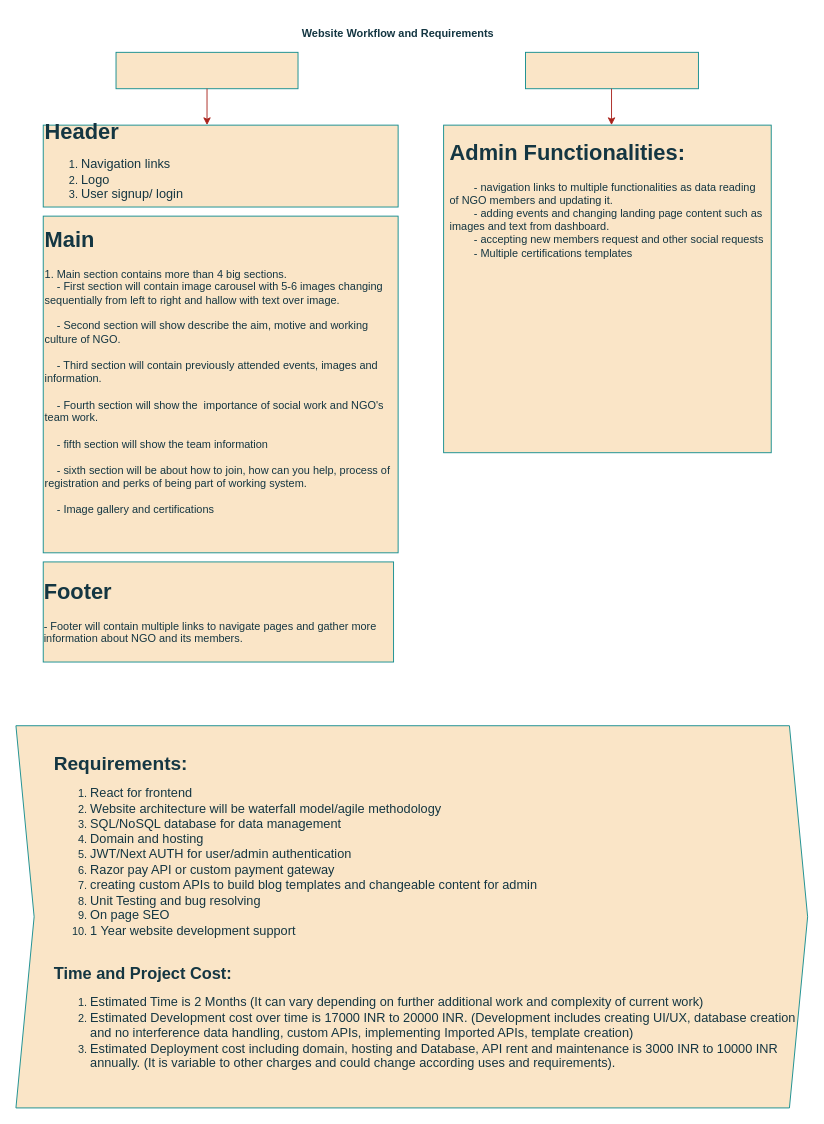
This 824x1124 diagram has some shape labels left out. The shapes that lost their labels are listed below. From the top down, each one's centre as x and y in pixels, then its label:
At (206,70): "Landing Page Content".
At (611,70): "Admin Dashboard and data flow".
